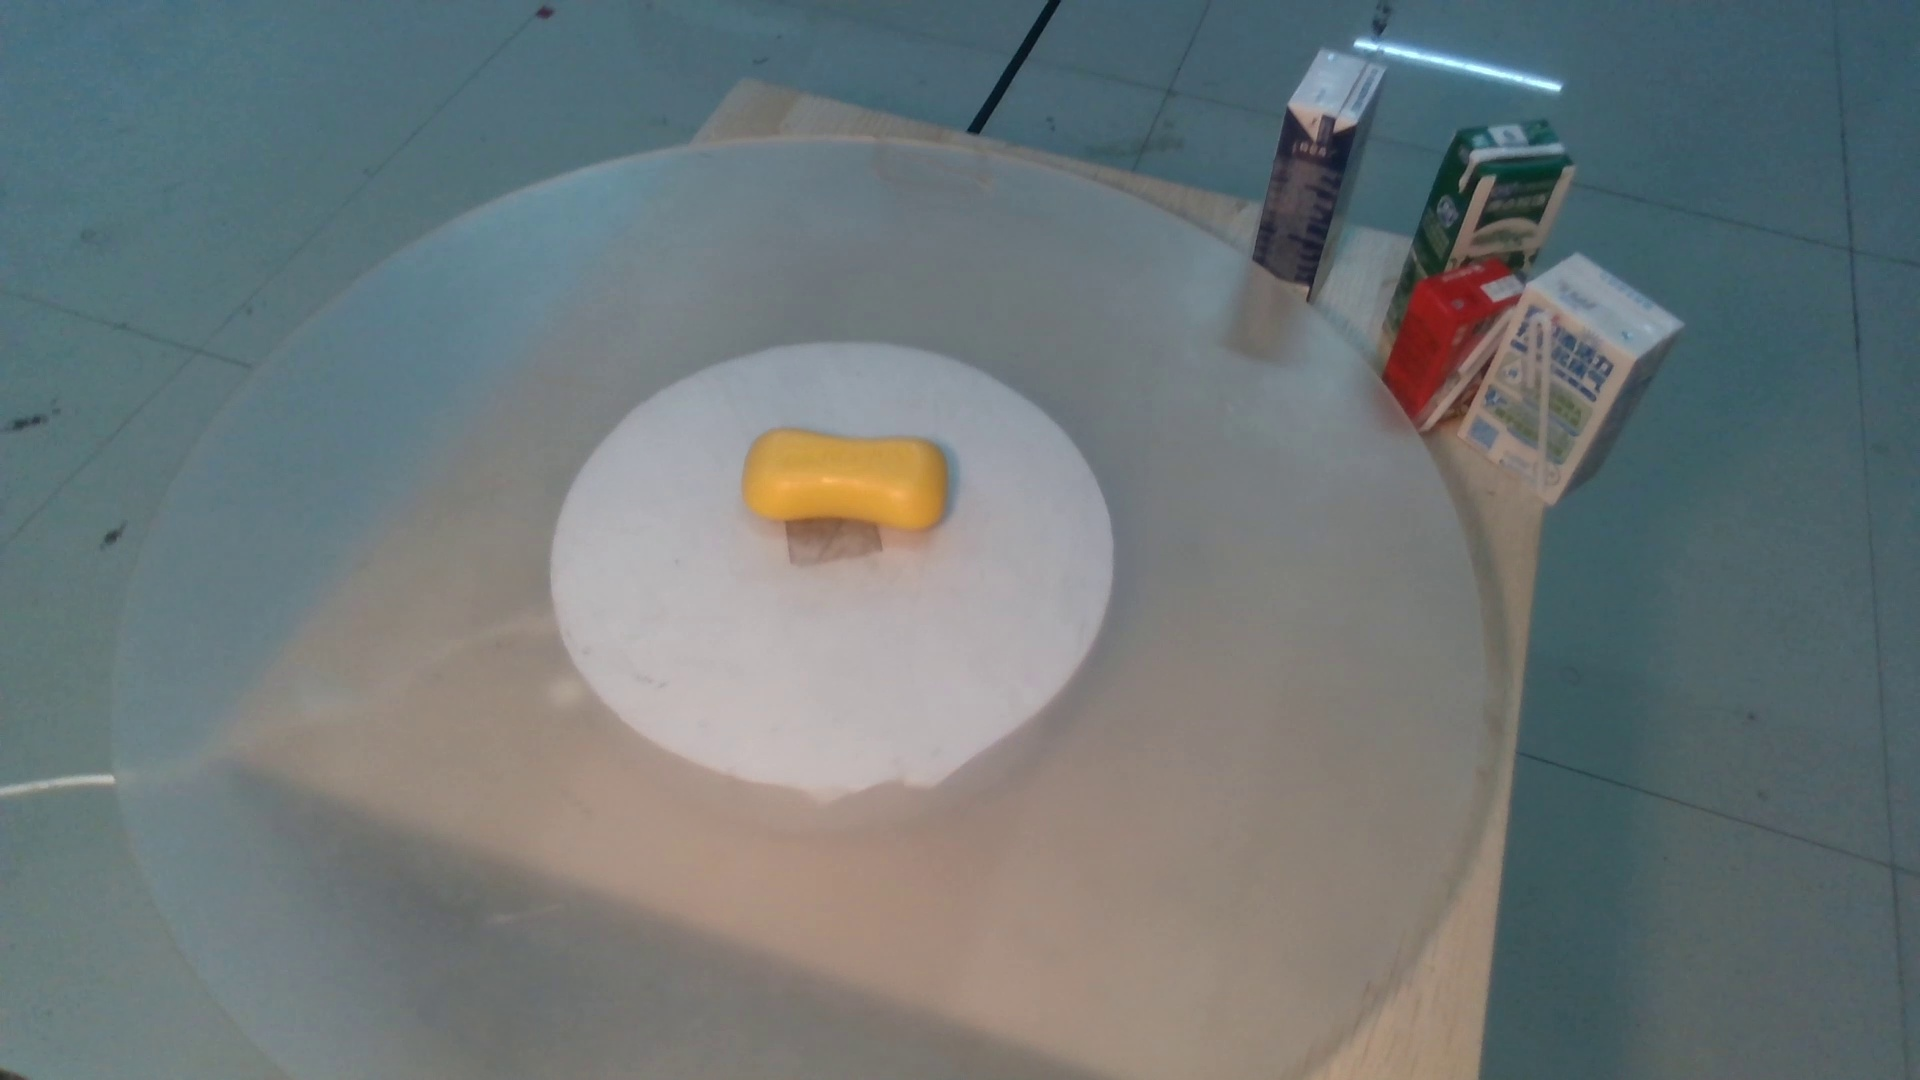CA003_1: (717, 393, 1005, 555)
